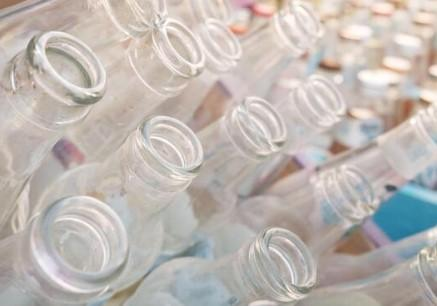glass: (30, 116, 205, 291), (33, 17, 207, 181), (144, 95, 287, 256), (0, 30, 107, 241), (272, 100, 436, 232), (213, 165, 380, 270), (123, 227, 317, 306), (223, 76, 346, 197), (0, 195, 131, 306), (201, 1, 322, 117), (142, 18, 243, 120), (293, 244, 436, 306)
